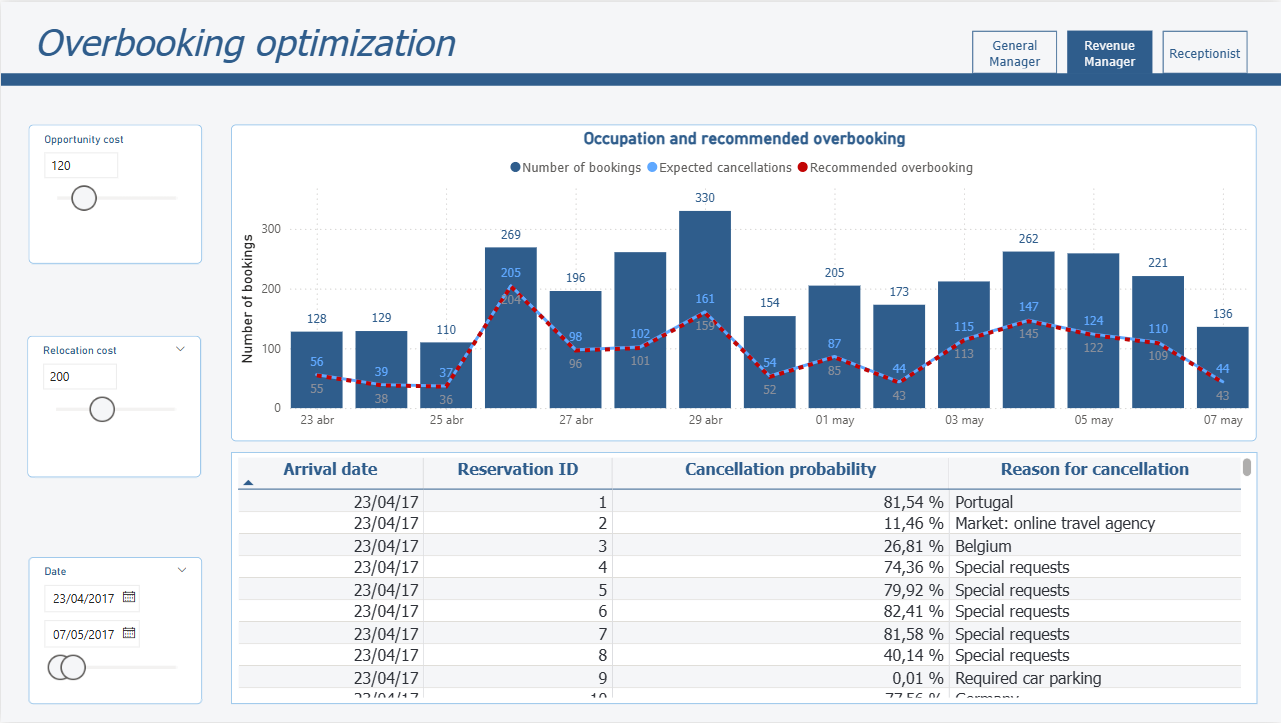

What the dashboard file says about the page in this screenshot:
{"tool":"powerbi","page":{"name":"Revenue Manager","canvas":[1280,720],"ordinal":2},"visuals":[{"type":"slicer","fields":{"Values":["Cost_oportunitat.Cost_oportunitat"]},"box":[27.6,122.4,173.7,139.5],"z":0},{"type":"slicer","fields":{"Values":["Cost_reubicació.Cost_reubicació"]},"box":[26.7,333.7,173.3,141.9],"z":1000},{"type":"lineClusteredColumnComboChart","title":"Occupation and recommended overbooking","fields":{"Category":["public dim_calendar.arrival_date"],"Y":["CountNonNull(public fact_future_simulation.id_reservation)"],"Y2":["Mesures.Cancel_esperades","Mesures.Overbooking_recom"]},"box":[230,122.9,1025.7,317.1],"z":2000},{"type":"tableEx","fields":{"Values":["public dim_calendar.arrival_date","public fact_future_simulation.id_reservation","Sum(public fact_future_simulation.cancellation_probability)","public dim_reason.name_reason"]},"box":[230.4,450,1026.7,252.1],"z":3000},{"type":"slicer","fields":{"Values":["public dim_calendar.arrival_date"]},"box":[27.6,555.3,173.7,147.4],"z":4000},{"type":"textbox","box":[28.2,11,455.4,60.3],"z":5000},{"type":"pageNavigator","box":[970.8,28.3,275,43.3],"z":6000},{"type":"shape","box":[0,71.2,1280,12.5],"z":7000}]}

Visuals, with their boxes in screenshot pixels (x1, y1, x2, y2), scaled from the page's 1280x720 canvas onto the 1281x723 screenshot:
slicer - Cost_oportunitat.Cost_oportunitat: <bbox>28, 123, 201, 263</bbox>
slicer - Cost_reubicació.Cost_reubicació: <bbox>27, 335, 200, 478</bbox>
"Occupation and recommended overbooking" lineClusteredColumnComboChart: <bbox>230, 123, 1257, 442</bbox>
tableEx - public dim_calendar.arrival_date x public fact_future_simulation.id_reservation: <bbox>231, 452, 1258, 705</bbox>
slicer - public dim_calendar.arrival_date: <bbox>28, 558, 201, 706</bbox>
textbox: <bbox>28, 11, 484, 72</bbox>
pageNavigator: <bbox>972, 28, 1247, 72</bbox>
shape: <bbox>0, 71, 1280, 84</bbox>
